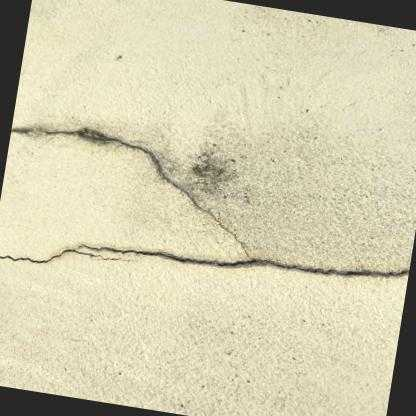crack: (0, 127, 409, 278)
